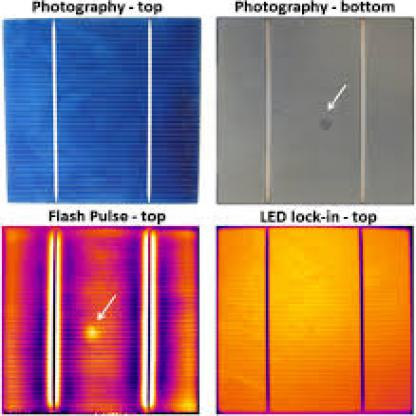Defects: (88, 324, 108, 342)
